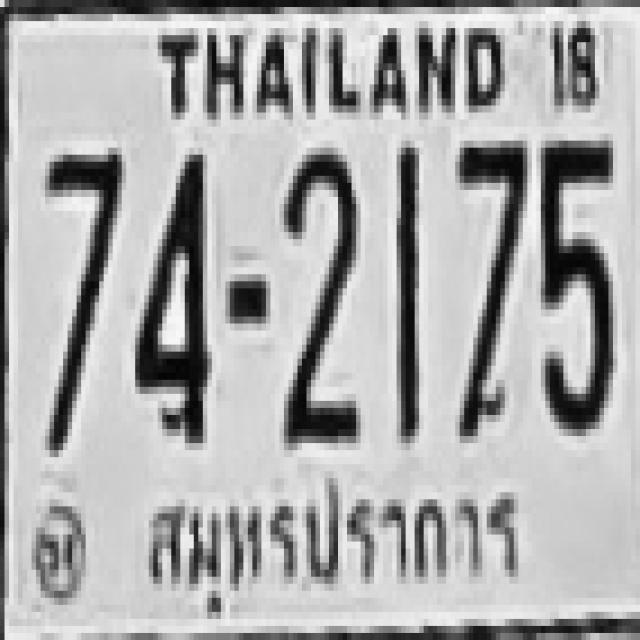1: (390, 144, 417, 440)
2: (282, 148, 354, 443)
4: (131, 148, 207, 436)
5: (536, 134, 608, 429)
7: (43, 148, 119, 450), (455, 134, 523, 436), (43, 148, 119, 358)
SamutPrakan: (135, 478, 532, 596)
